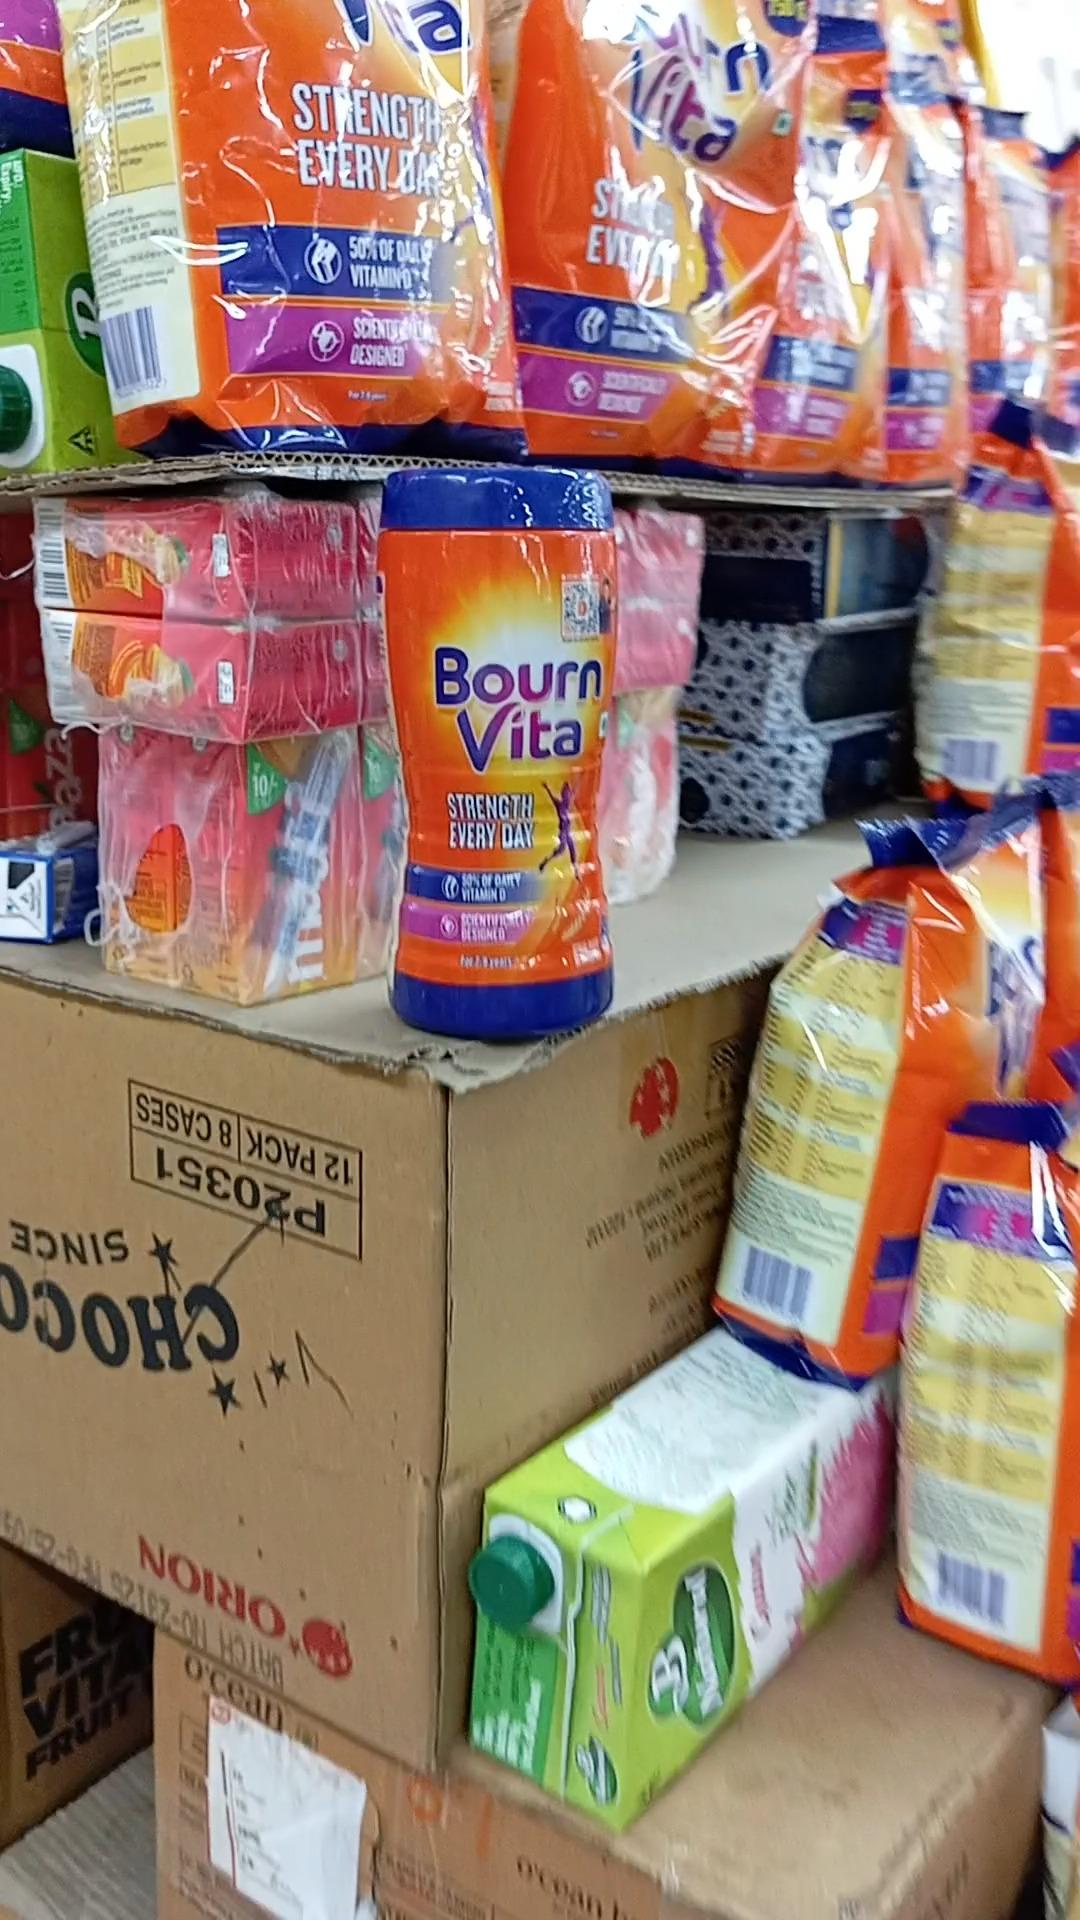BOURN_VITA_200_G_JAR: (380, 465, 625, 1047)
